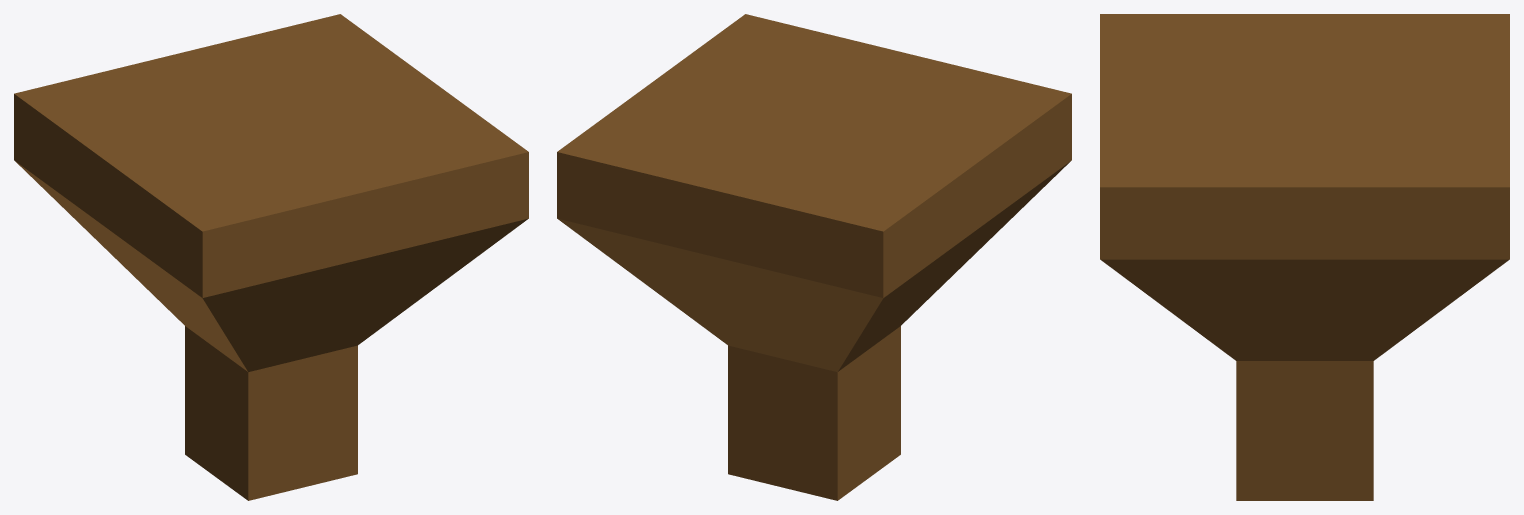
The picture shows the model from 3 angles, left to right: view 1: azimuth 30°, elevation 25°; view 2: azimuth 150°, elevation 25°; view 3: azimuth 270°, elevation 25°; orthographic projection. The views are drawn at different scales.
Visible parts, largest first — view 1: Cube; view 2: Cube; view 3: Cube.
Part boxes in pixels (<box>): Cube: <box>14,14,528,500</box>; Cube: <box>557,14,1071,500</box>; Cube: <box>1100,14,1509,500</box>.
Size of the model in its own units: 2 by 2 by 2.
